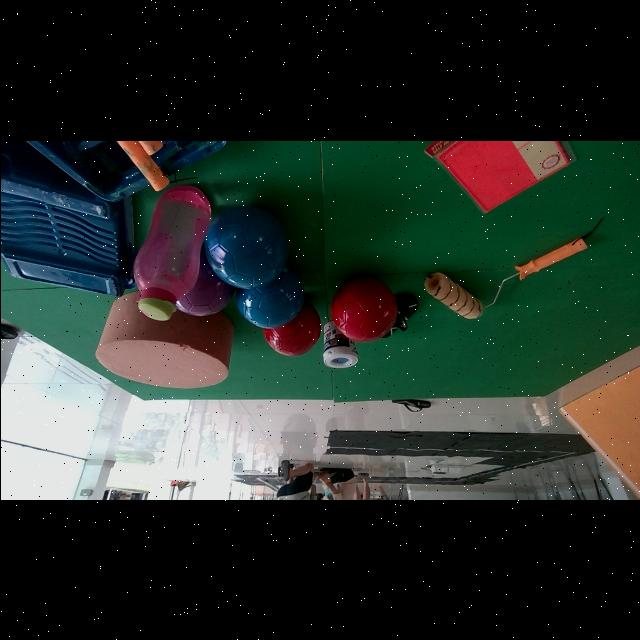B: (204, 205, 288, 288), (235, 267, 303, 329), (175, 247, 234, 316)
R: (330, 277, 397, 342), (263, 301, 321, 357)
